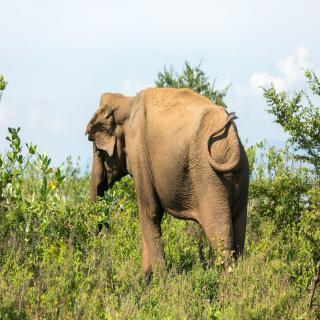Elephant: (85, 86, 252, 288)
